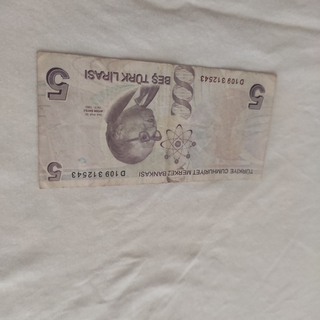5TLBack: (35, 49, 277, 190)
